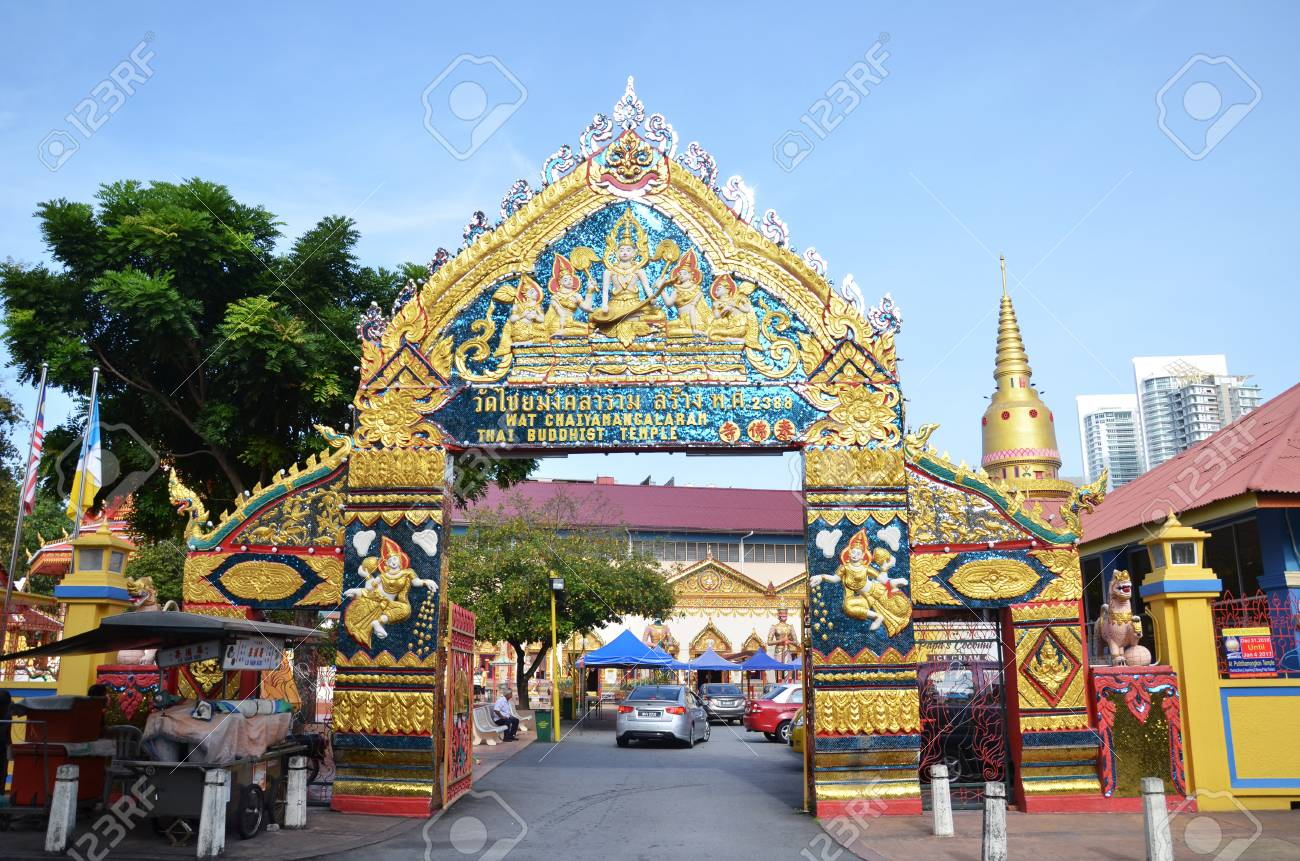Buddhist Temple: (296, 95, 904, 817)
